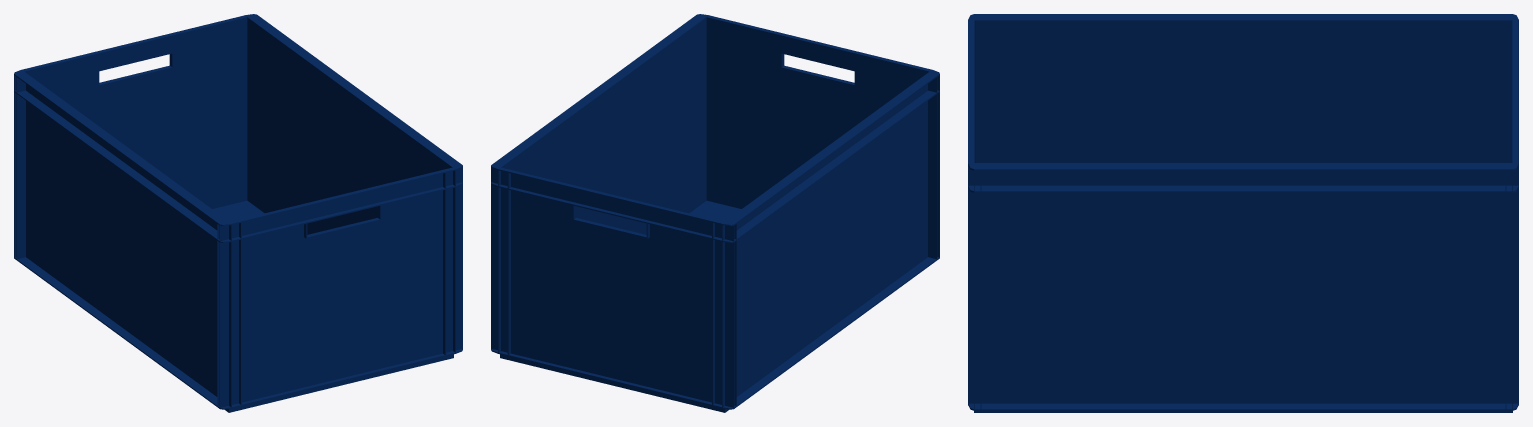
Rendered from EuroContainer_D.dae.
3 renders of one model, left to right at view 1: azimuth 30°, elevation 25°; view 2: azimuth 150°, elevation 25°; view 3: azimuth 270°, elevation 25°, orthographic. The views are drawn at different scales.
Parts seen in each view (by area): view 1: EuroContainer_D; view 2: EuroContainer_D; view 3: EuroContainer_D.
Part boxes in pixels (box(x1,y1,x2,y2)): EuroContainer_D: box(14, 14, 462, 412); EuroContainer_D: box(491, 14, 939, 412); EuroContainer_D: box(968, 14, 1518, 412).
Bounding box in the file's own units: 0.4 × 0.6 × 0.3.
Materials: 1 (1 with a texture image).
